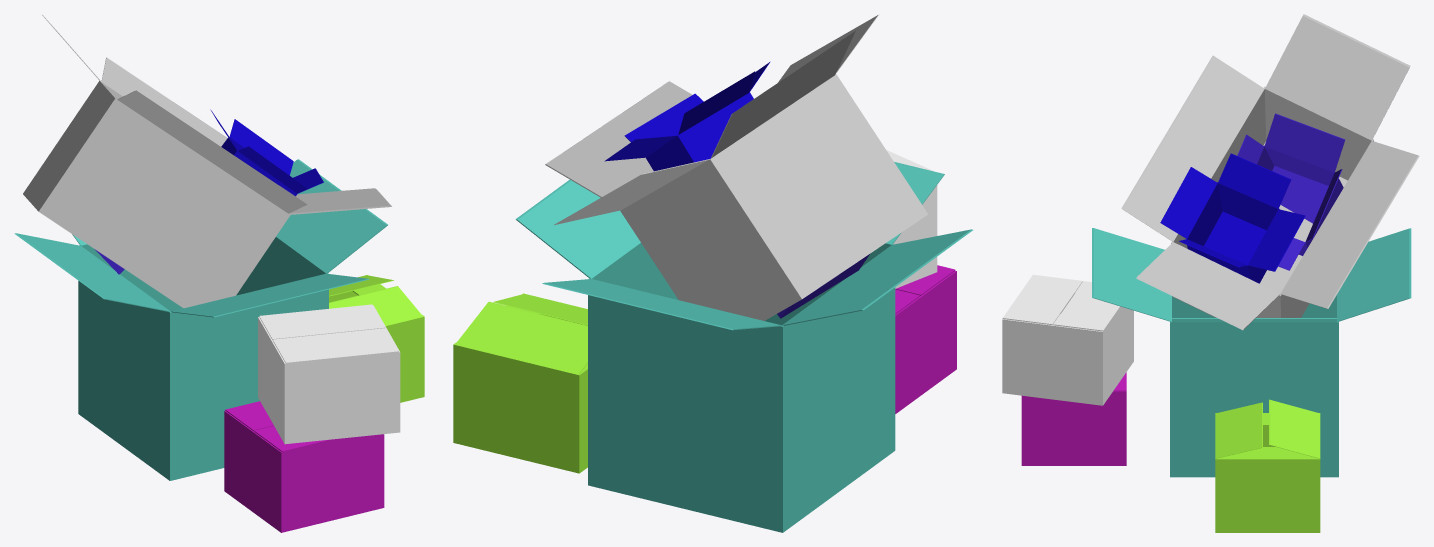
The model's file is pakkehaug5.fbx.
The picture shows the model from 3 angles, left to right: view 1: azimuth 30°, elevation 25°; view 2: azimuth 150°, elevation 25°; view 3: azimuth 270°, elevation 25°; orthographic projection. The views are drawn at different scales.
Visible parts, largest first — view 1: pakke7, pakke8, pakke14, pakke13, pakke11, pakke10; view 2: pakke7, pakke8, pakke11, pakke13, pakke10, pakke14, pakke12; view 3: pakke8, pakke7, pakke14, pakke11, pakke10, pakke13, pakke12.
Part boxes in pixels (<box>): pakke7: <box>14,159,387,480</box>; pakke8: <box>23,15,391,308</box>; pakke14: <box>258,304,400,444</box>; pakke13: <box>224,401,384,532</box>; pakke11: <box>329,275,424,402</box>; pakke10: <box>210,109,323,196</box>; pakke7: <box>515,162,972,532</box>; pakke8: <box>545,14,928,320</box>; pakke11: <box>453,293,587,473</box>; pakke13: <box>895,265,956,413</box>; pakke10: <box>604,61,770,171</box>; pakke14: <box>886,150,937,288</box>; pakke12: <box>777,253,870,318</box>; pakke8: <box>1121,14,1419,330</box>; pakke7: <box>1092,228,1411,477</box>; pakke14: <box>1002,274,1133,405</box>; pakke11: <box>1215,399,1320,532</box>; pakke10: <box>1160,153,1305,283</box>; pakke13: <box>1021,372,1126,465</box>; pakke12: <box>1237,113,1345,270</box>.
Size of the model in its own units: 172 by 187 by 189.
